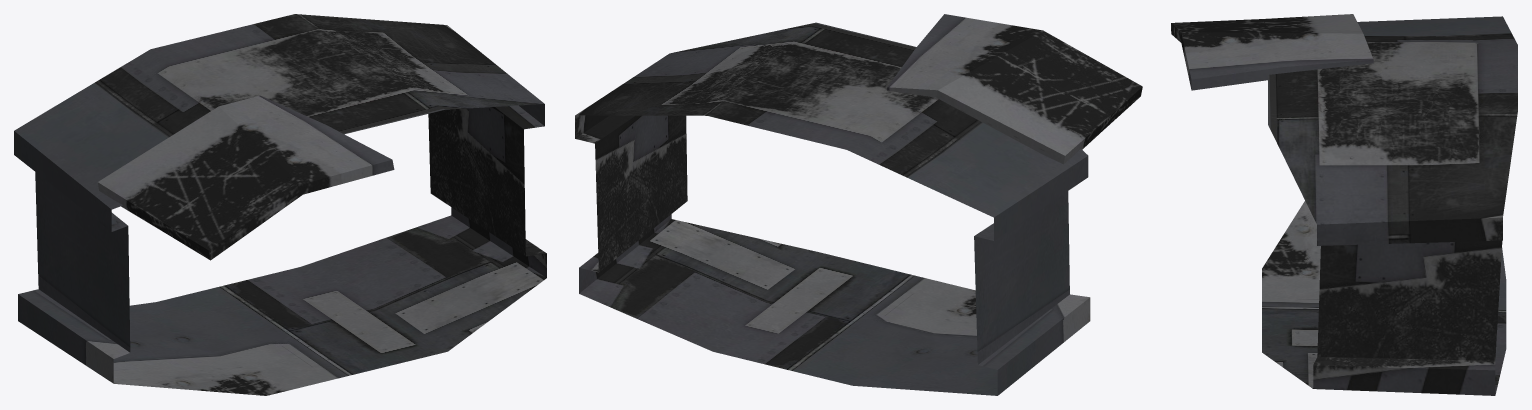
File: HCD7.fbx
The picture shows the model from 3 angles, left to right: view 1: azimuth 30°, elevation 25°; view 2: azimuth 150°, elevation 25°; view 3: azimuth 270°, elevation 25°; orthographic projection. The views are drawn at different scales.
Visible parts, largest first — view 1: sevenD; view 2: sevenD; view 3: sevenD.
Boxes of the visible parts, left/top/right/bottom form: sevenD: left=14, top=14, right=546, bottom=395; sevenD: left=575, top=14, right=1142, bottom=395; sevenD: left=1171, top=14, right=1517, bottom=395.
Size of the model in its own units: 5948 by 3330 by 4333.
Materials: 1 (1 with a texture image).
